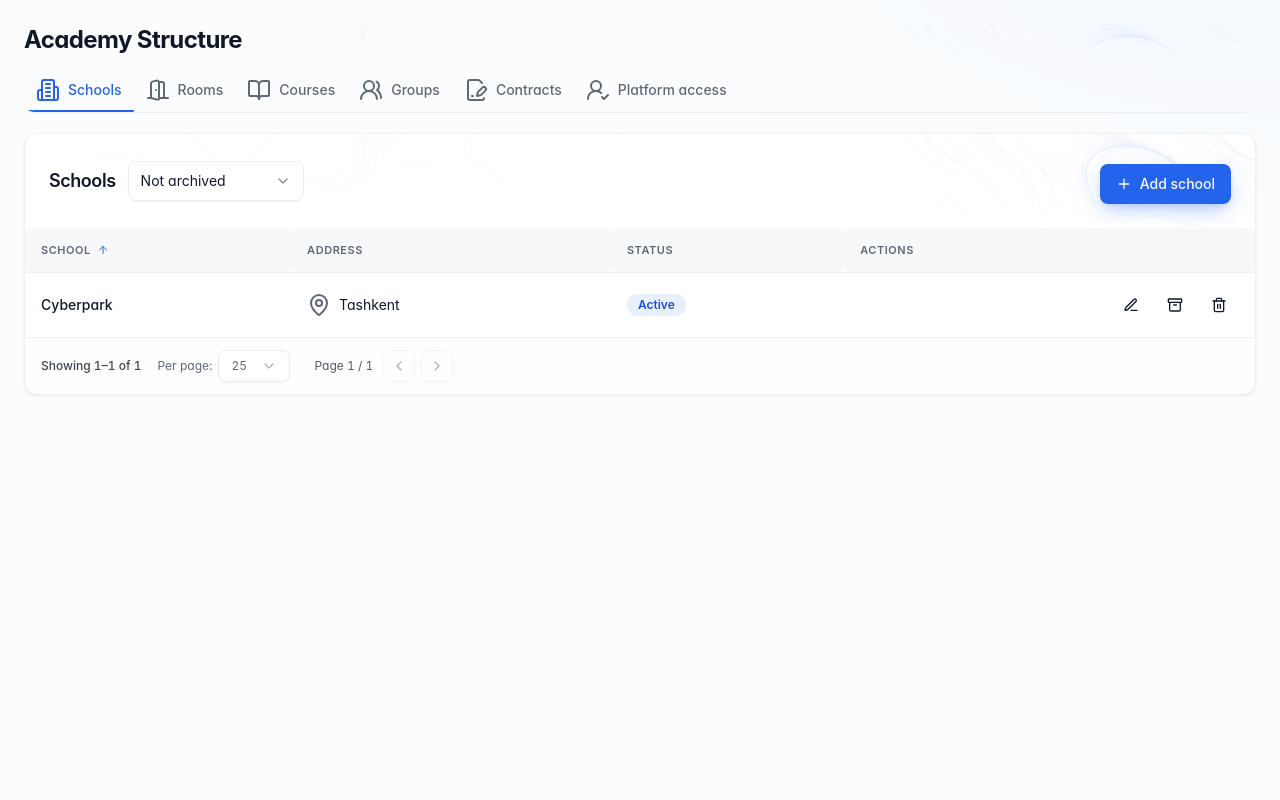
Test: academy resource editors › keeps schools drafts after canceling discard and blocks edits, close and duplicate saves while pending
Click the button named "Edit" at (1131, 304), box [1111,284,1151,324]
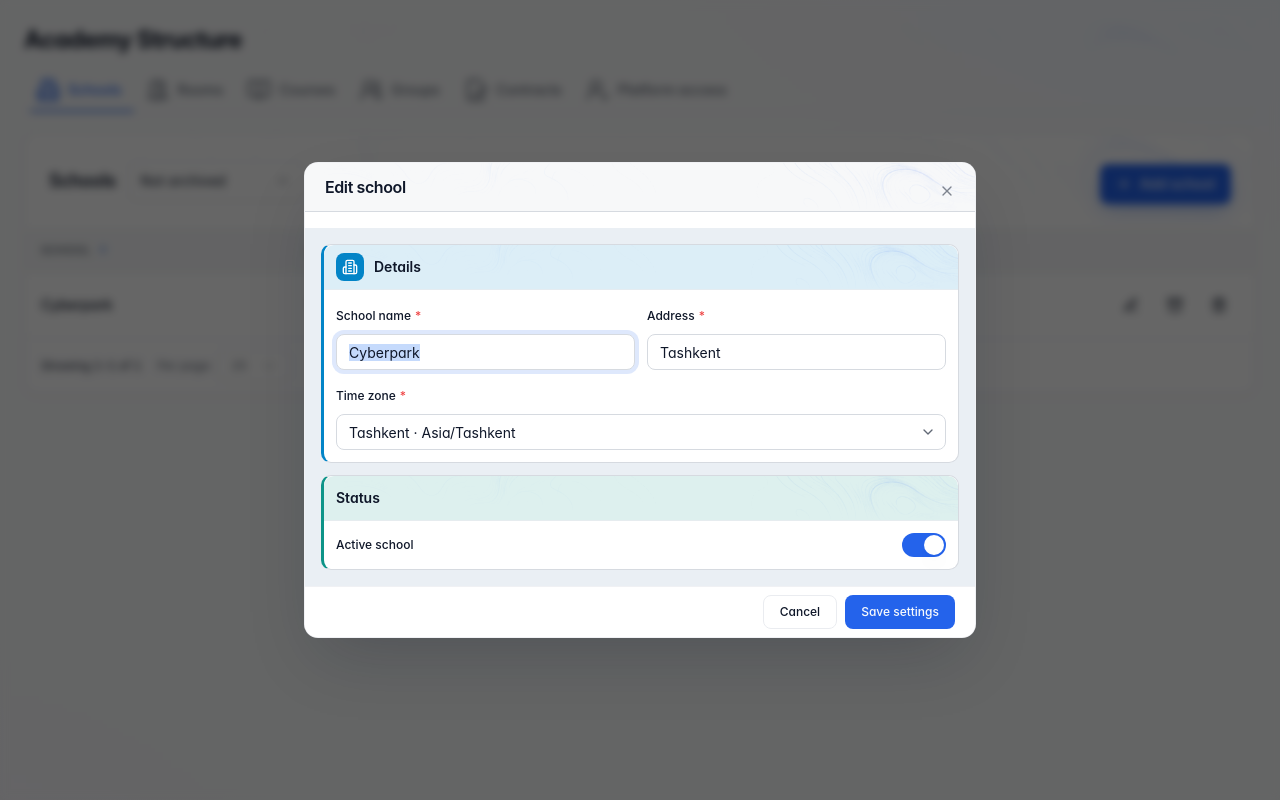
Type " changed" into the field labelled "School name" at (486, 352), box [336,334,635,370]
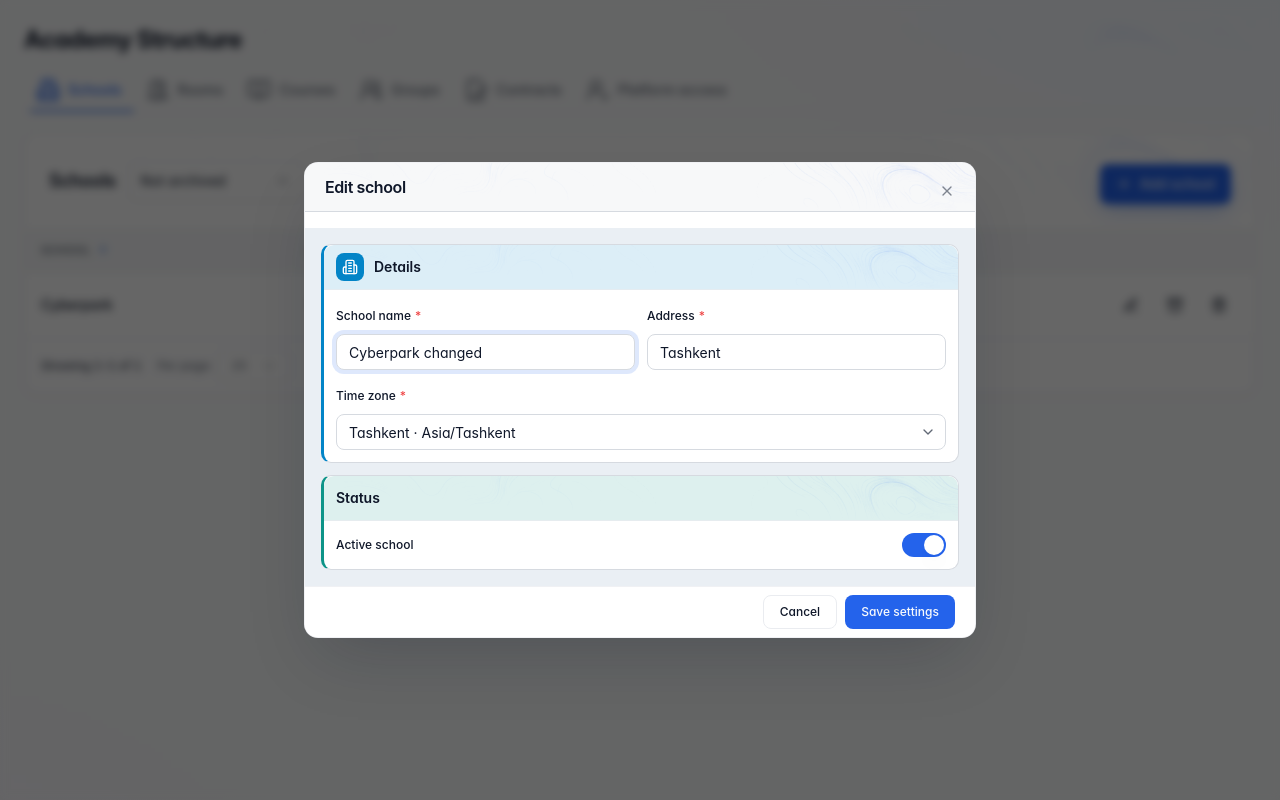
Click the button "Cancel" at (800, 612), box [763,595,837,629]
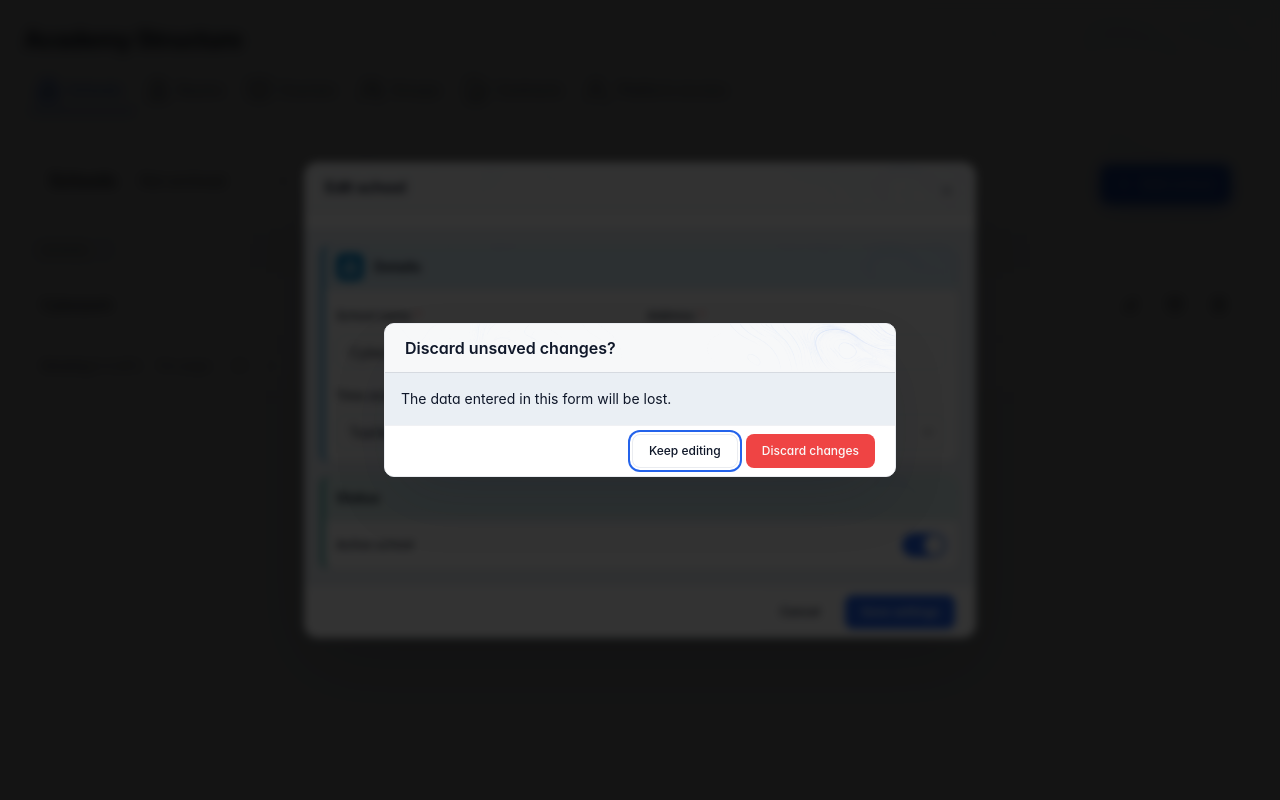
Click the button "Keep editing" at (685, 451), box [632,434,738,468]
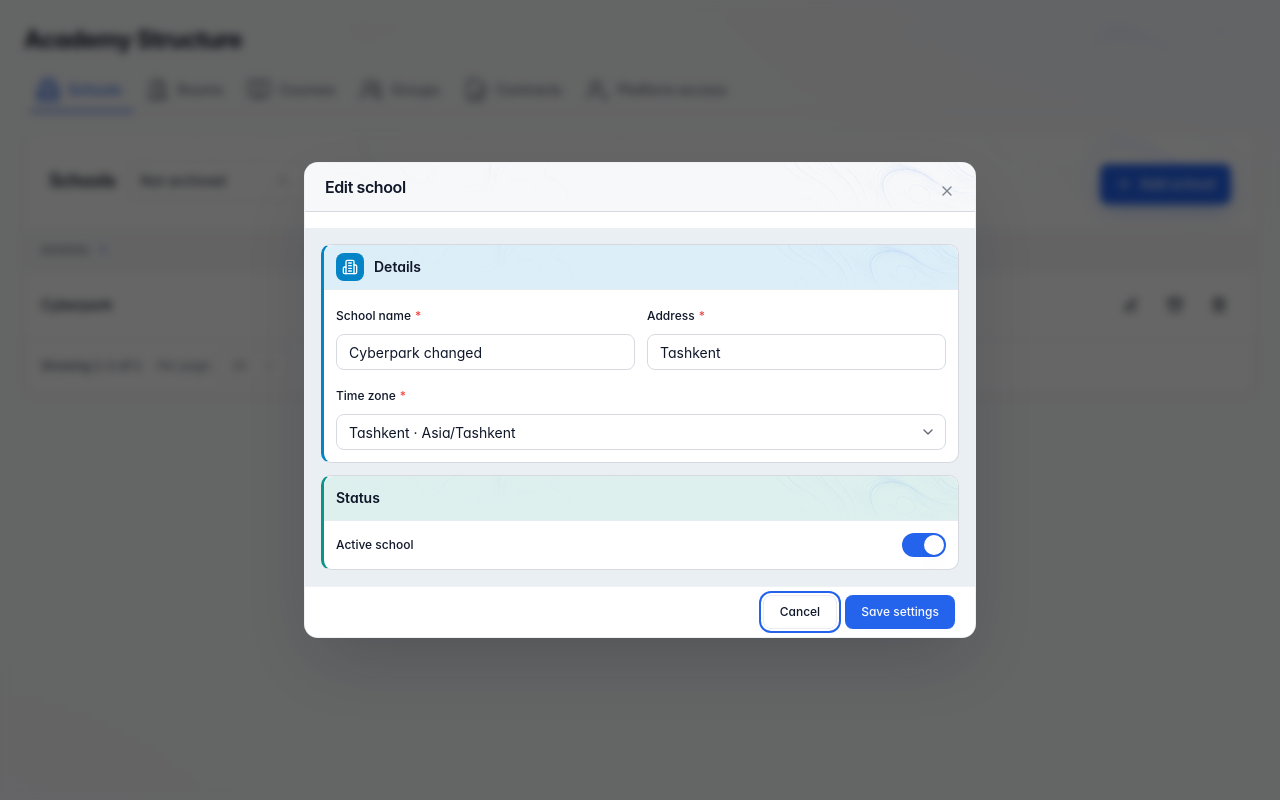
Click the button "Save settings" at (900, 612), box [845,595,955,629]
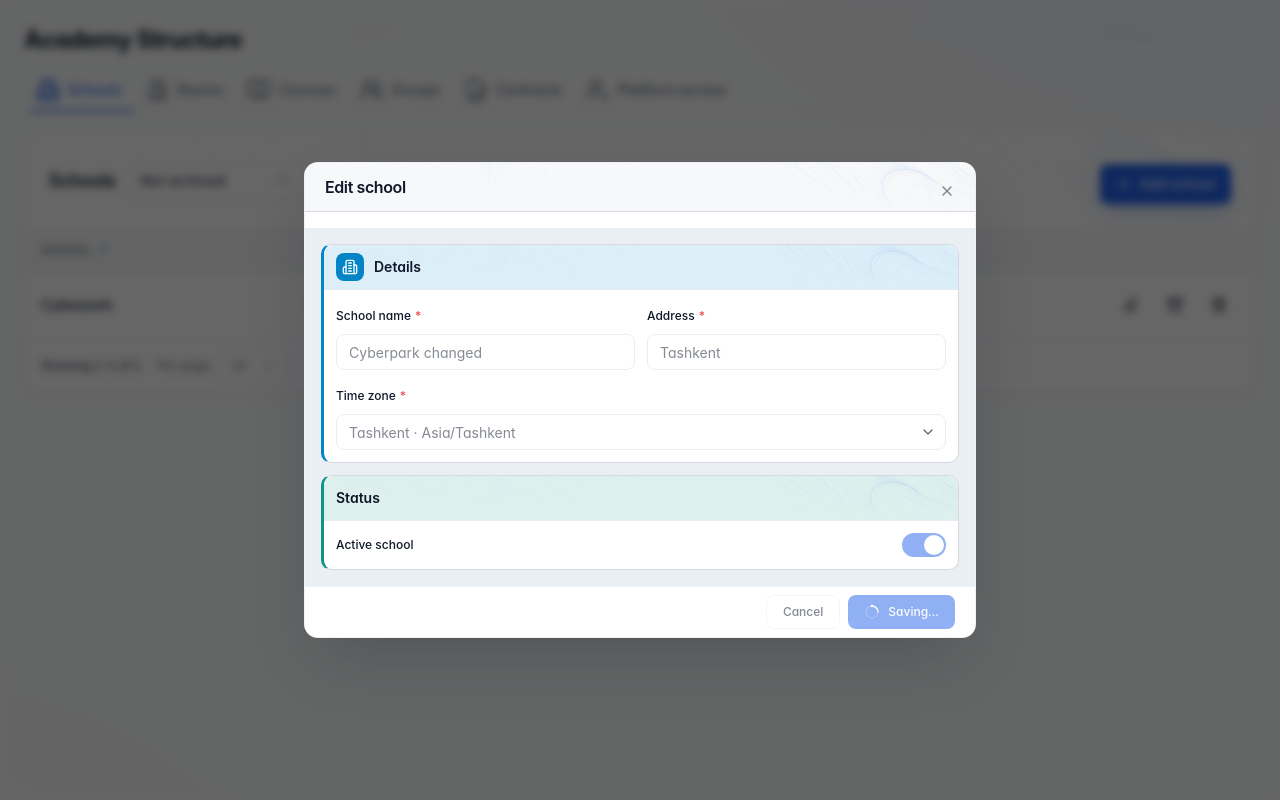
Check: the field labelled "School name" is disabled, box [336,334,635,370]
Check: the button "Cancel" is disabled, box [766,595,840,629]
Submit the form, box [305,228,975,637]
Submit the form, box [305,228,975,637]
Press Escape
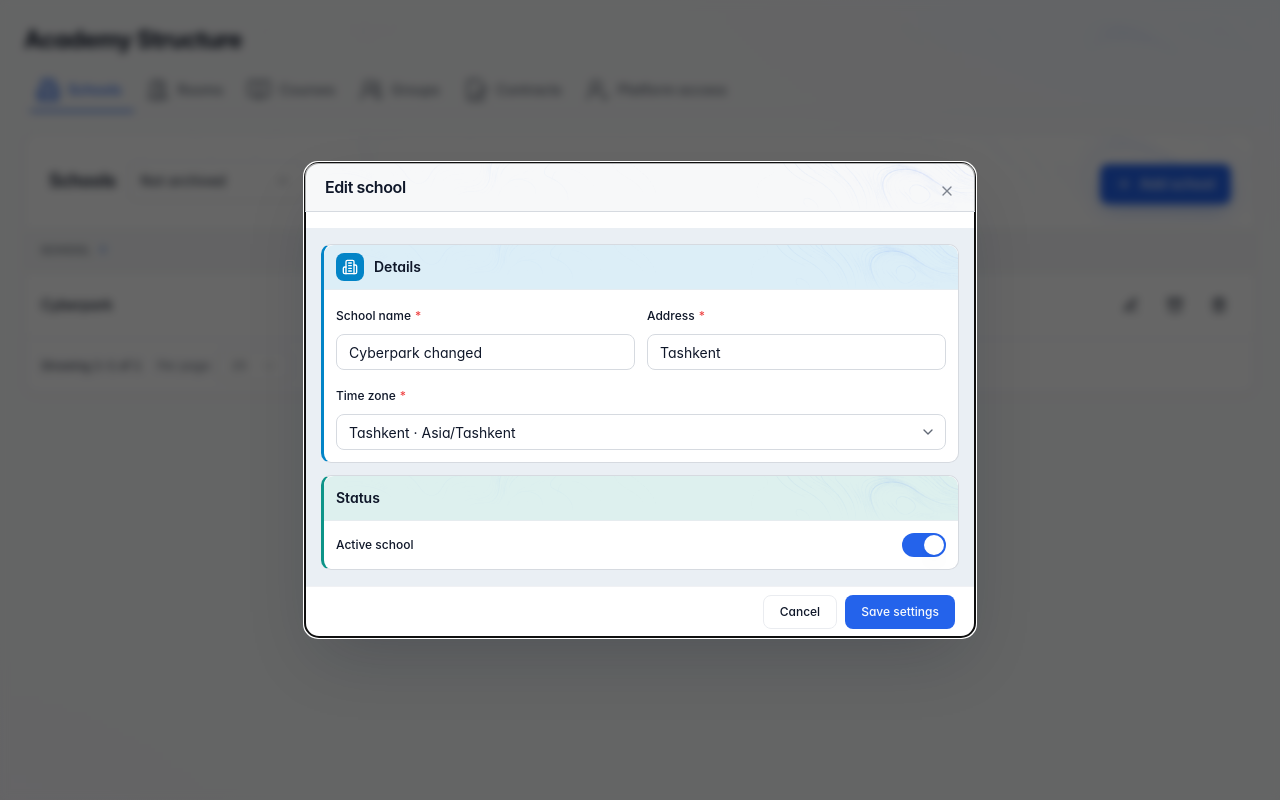
Check: the field labelled "School name*" is enabled, box [336,334,635,370]
